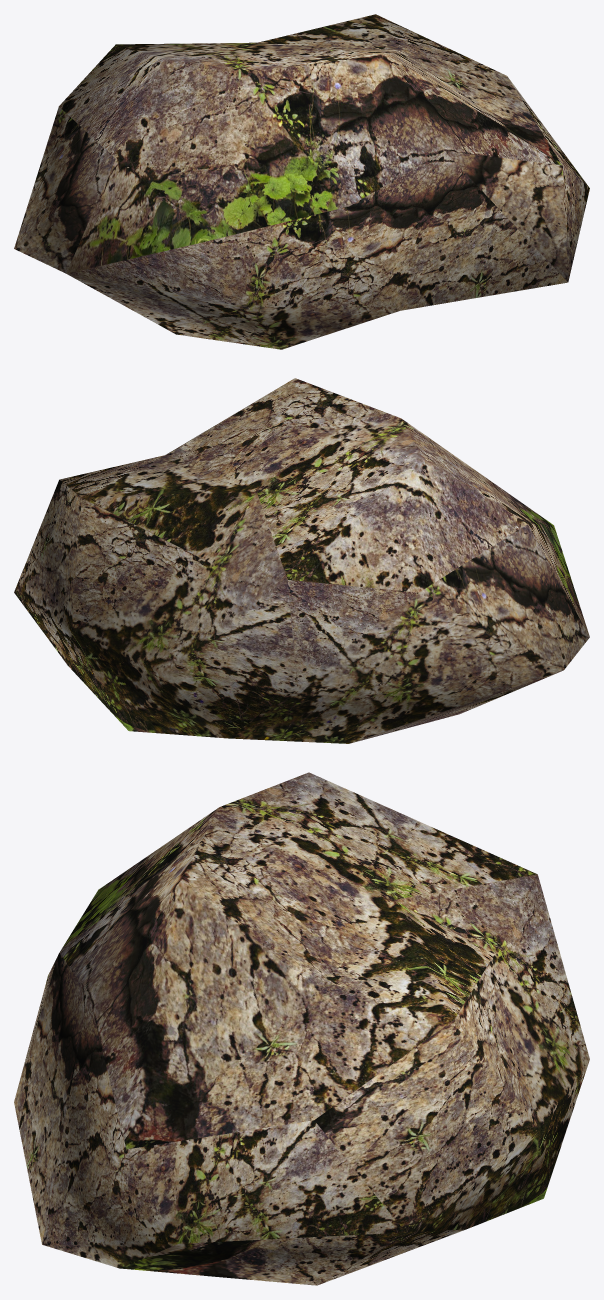
The model's file is rock.obj.
3 renders of one model, top to bottom at view 1: azimuth 30°, elevation 25°; view 2: azimuth 150°, elevation 25°; view 3: azimuth 270°, elevation 25°, orthographic. The views are drawn at different scales.
Visible parts, largest first — view 1: GeoSphere01; view 2: GeoSphere01; view 3: GeoSphere01.
Boxes of the visible parts, x1,y1,x2,y2 form: GeoSphere01: (14, 14, 589, 349); GeoSphere01: (14, 378, 589, 743); GeoSphere01: (14, 772, 589, 1285).
Size of the model in its own units: 15.7 by 7.27 by 11.76.
1 material, 1 textured.
